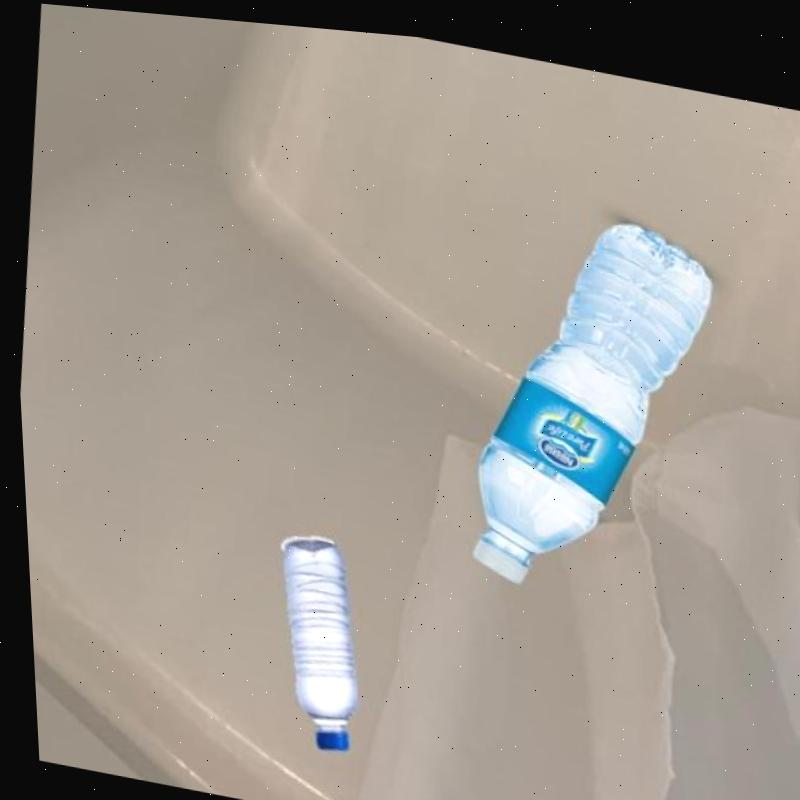botella: (447, 186, 732, 612), (254, 525, 373, 755)
